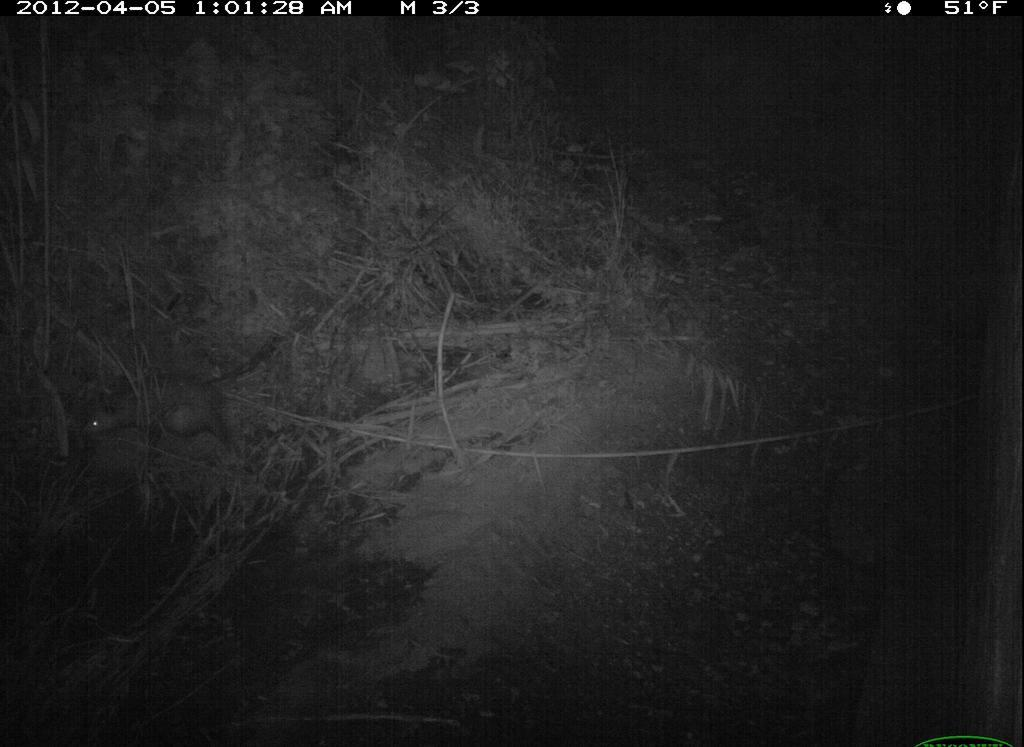opossum: (80, 368, 239, 469)
